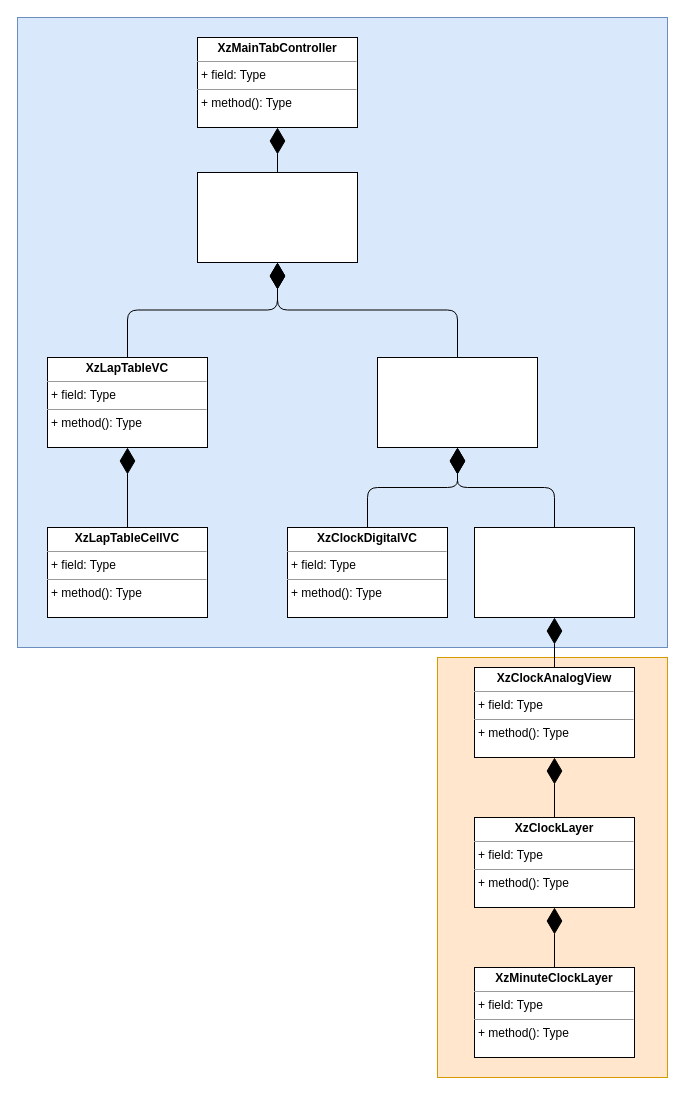
Some shapes in this 685 by 1095 pixel diagram are drawn without their labels. The box of each missing label's shape, as (x1, y1, x2, y2) in pixels:
XzClockAnalogVC + field: Type + method(): Type: (474, 526, 634, 618)
XzClockPageVC + field: Type + method(): Type: (376, 356, 538, 448)
XzStopwatchVC + field: Type + method(): Type: (196, 172, 358, 262)
